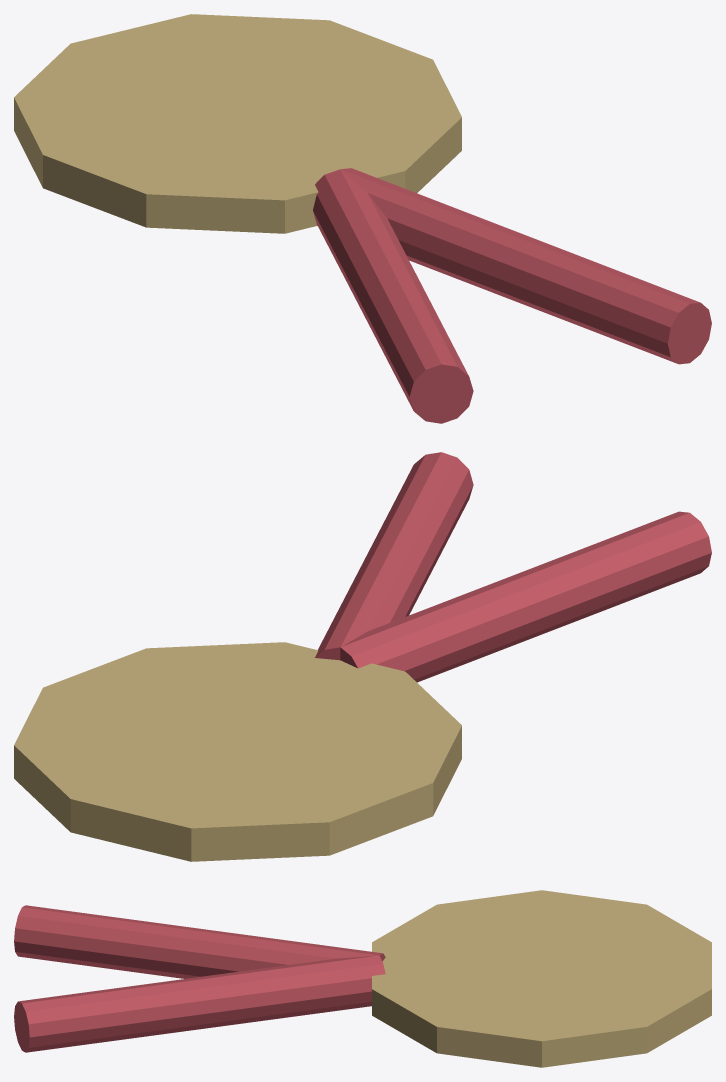
The picture shows the model from 3 angles, top to bottom: view 1: azimuth 30°, elevation 25°; view 2: azimuth 150°, elevation 25°; view 3: azimuth 270°, elevation 25°; orthographic projection. The views are drawn at different scales.
Parts seen in each view (by area): view 1: geometry_0; view 2: geometry_0; view 3: geometry_0.
Part boxes in pixels (x1,y1,x2,y2): geometry_0: (14, 14, 711, 423); geometry_0: (14, 452, 711, 861); geometry_0: (14, 890, 711, 1067).
Size of the model in its own units: 0.11 by 0.02 by 0.2147.
